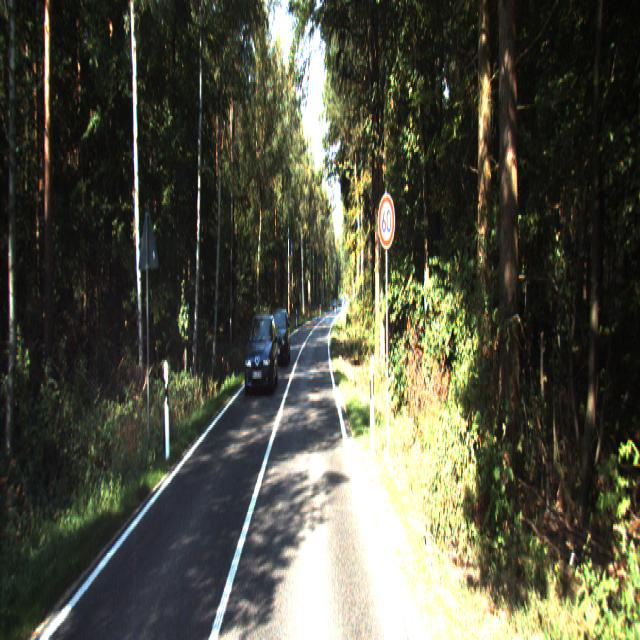Car: (244, 312, 279, 398), (268, 306, 292, 368)
